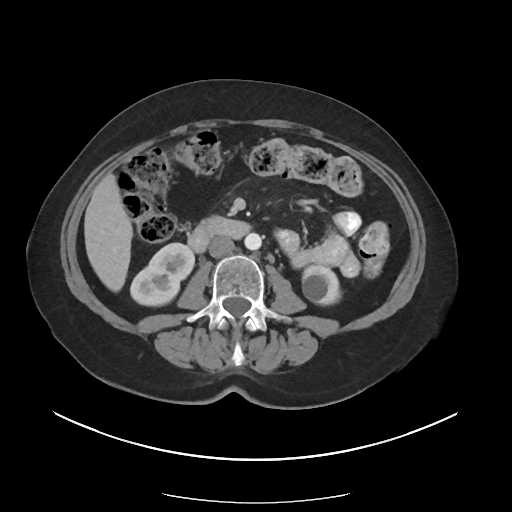Lesion: (299, 273, 331, 305)
